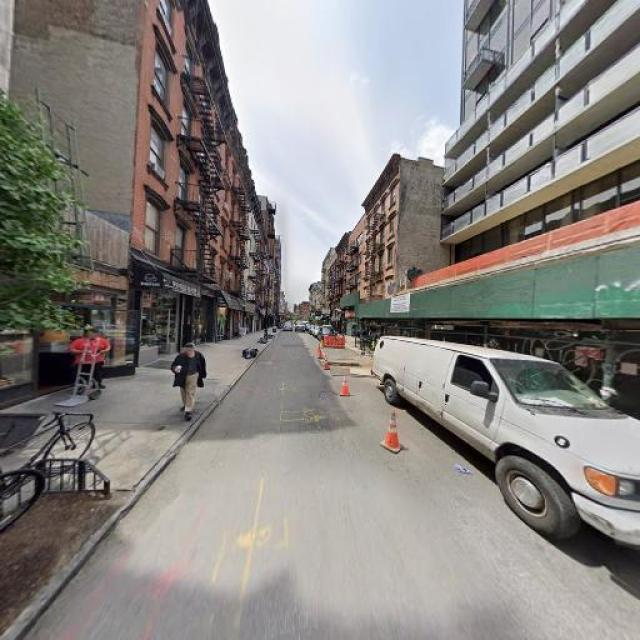Building: (445, 1, 640, 440), (137, 1, 240, 369), (22, 252, 132, 409), (1, 1, 17, 419), (364, 159, 394, 355), (243, 145, 253, 333), (347, 220, 361, 344), (338, 240, 344, 338)
